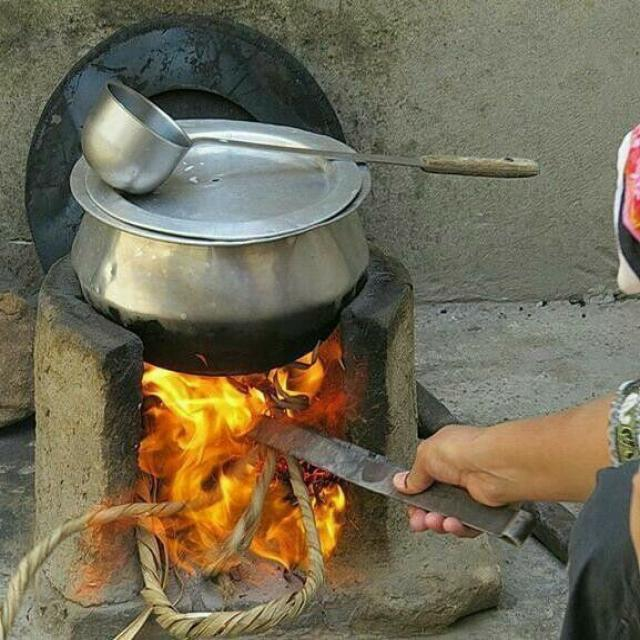fire: (139, 329, 349, 582), (67, 490, 139, 606)
